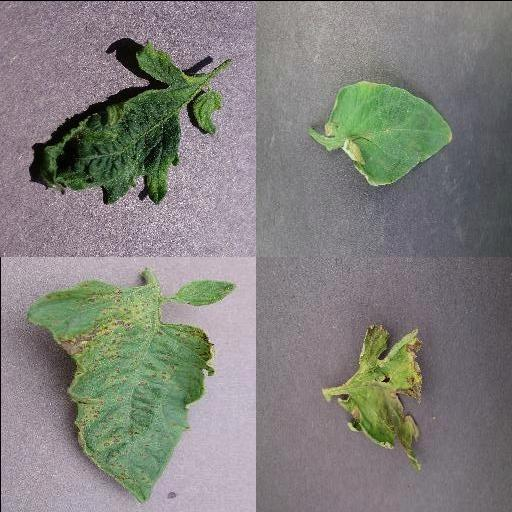Late Blight: (323, 79, 457, 187), (335, 318, 425, 468)
Mosaic Virus: (37, 34, 223, 204)
Septoria: (27, 277, 215, 505)
